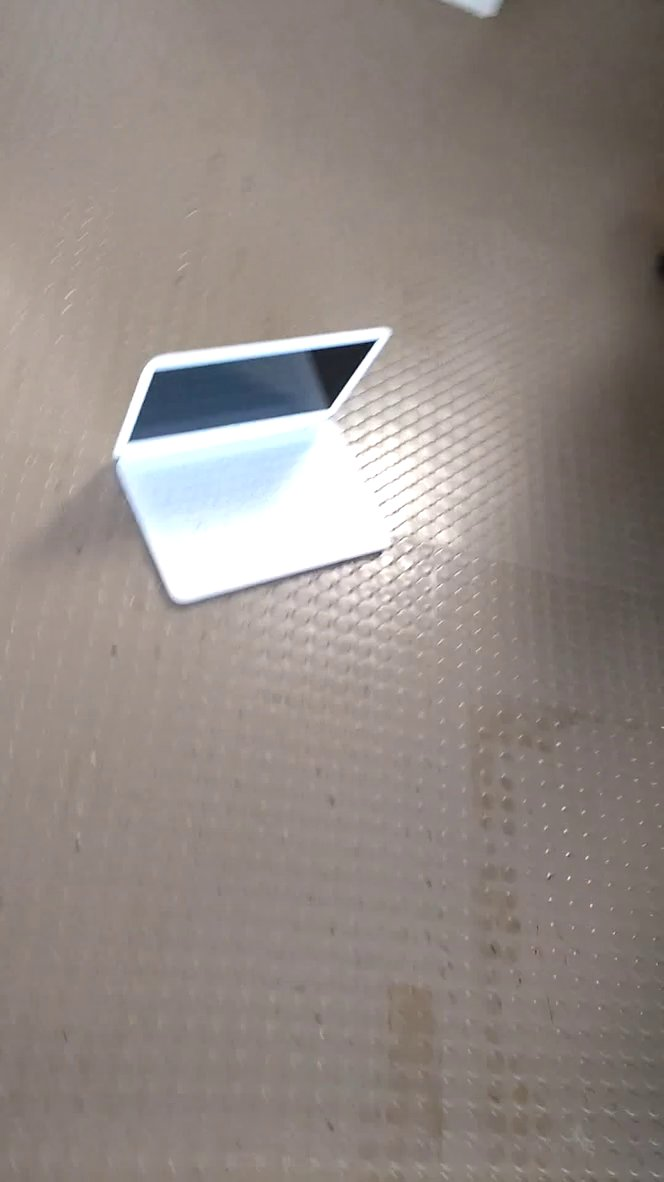laptop: (107, 318, 405, 617)
